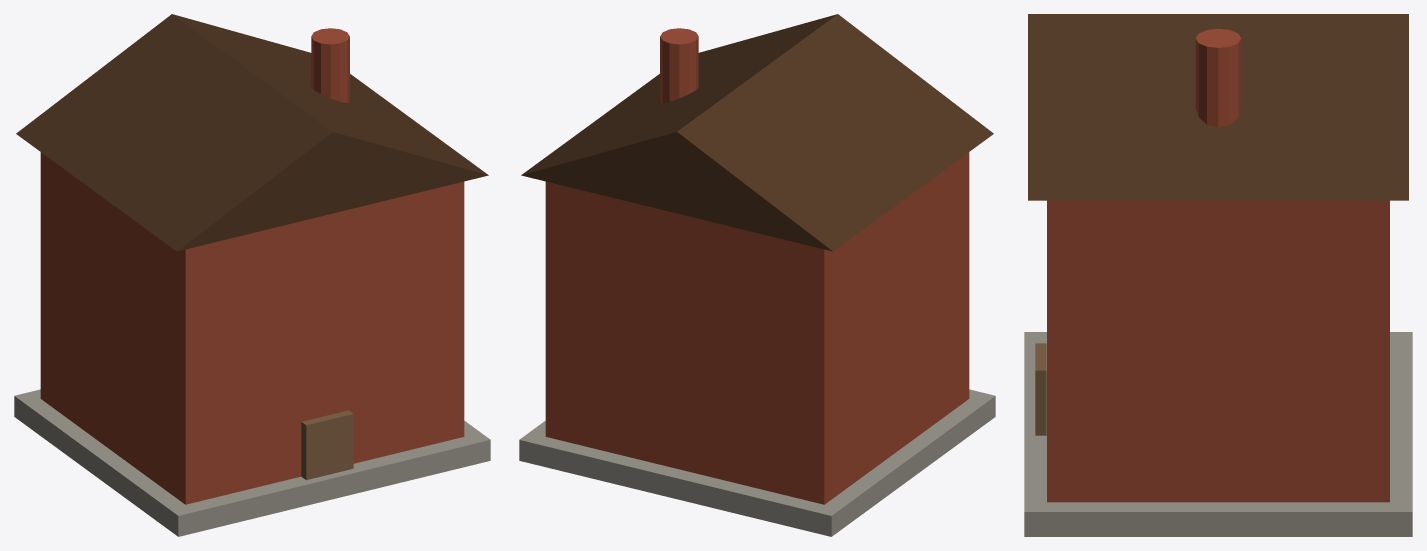
File: bld_residential_a04_lod1.glb
The picture shows the model from 3 angles, left to right: view 1: azimuth 30°, elevation 25°; view 2: azimuth 150°, elevation 25°; view 3: azimuth 270°, elevation 25°; orthographic projection. The views are drawn at different scales.
Parts seen in each view (by area): view 1: body; view 2: body; view 3: body.
Boxes of the visible parts, x1=… form: body: x1=14, y1=14, x2=490, y2=536; body: x1=519, y1=14, x2=995, y2=536; body: x1=1024, y1=14, x2=1412, y2=536.
Bounding box in the file's own units: 5.6 × 6.57 × 5.1.
